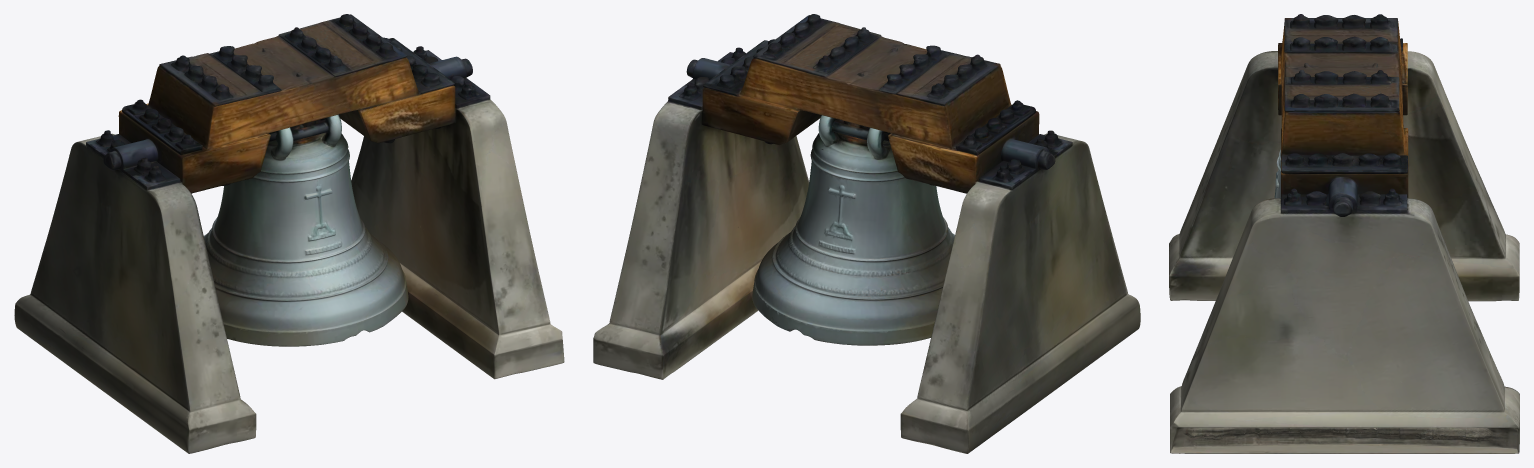
Rendered from Bell-SIN-001-med.glb.
The picture shows the model from 3 angles, left to right: view 1: azimuth 30°, elevation 25°; view 2: azimuth 150°, elevation 25°; view 3: azimuth 270°, elevation 25°; orthographic projection.
Visible parts, largest first — view 1: node_0; view 2: node_0; view 3: node_0.
Part boxes in pixels (left/top/right/bottom): node_0: left=14, top=14, right=564, bottom=453; node_0: left=593, top=14, right=1140, bottom=453; node_0: left=1169, top=14, right=1519, bottom=453.
Size of the model in its own units: 0.8116 by 0.6139 by 0.6437.
Materials: 1 (1 with a texture image).
